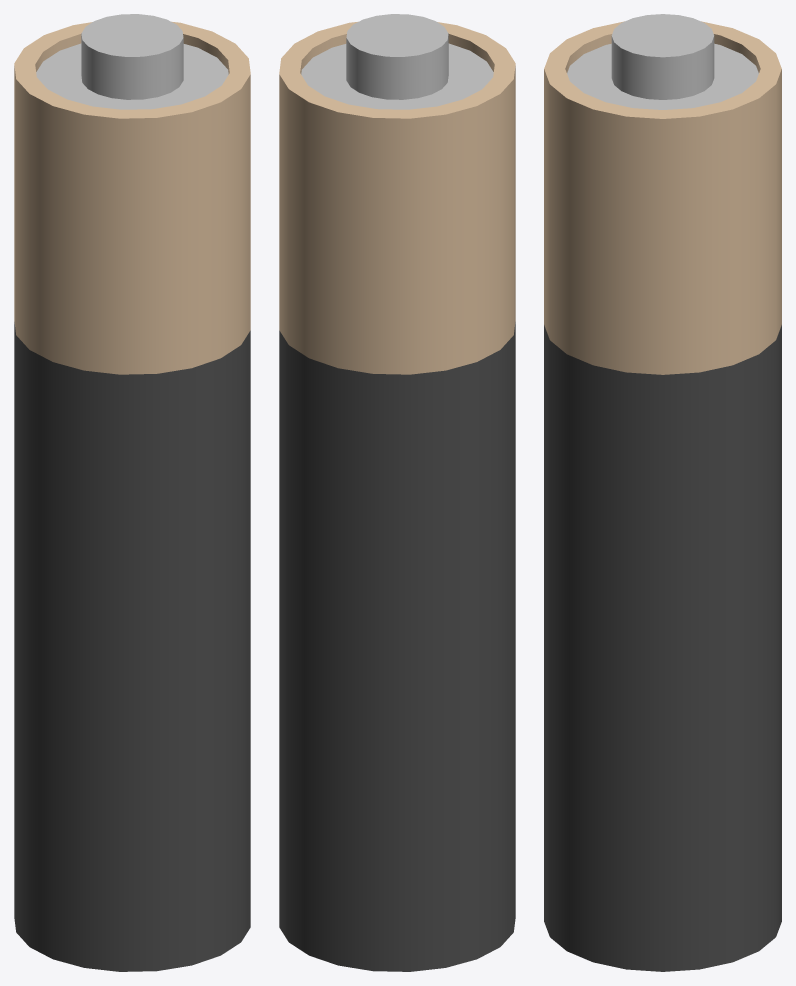
The model's file is AAA_Battery.fbx.
3 renders of one model, left to right at view 1: azimuth 30°, elevation 25°; view 2: azimuth 150°, elevation 25°; view 3: azimuth 270°, elevation 25°, orthographic.
Visible parts, largest first — view 1: polySurface258; view 2: polySurface258; view 3: polySurface258.
Boxes of the visible parts, x1,y1,x2,y2 form: polySurface258: (14, 14, 250, 971); polySurface258: (279, 14, 515, 971); polySurface258: (544, 14, 781, 971).
Size of the model in its own units: 0.1179 by 0.4849 by 0.1179.
